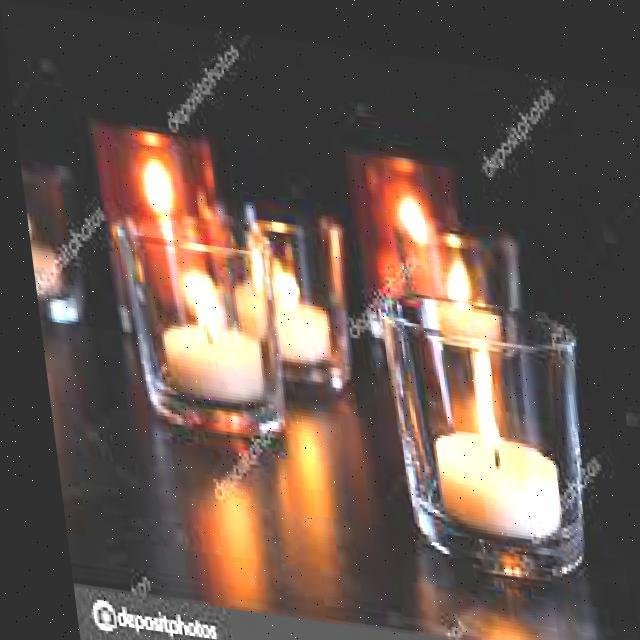Fire: (459, 331, 502, 451), (170, 260, 221, 334)
